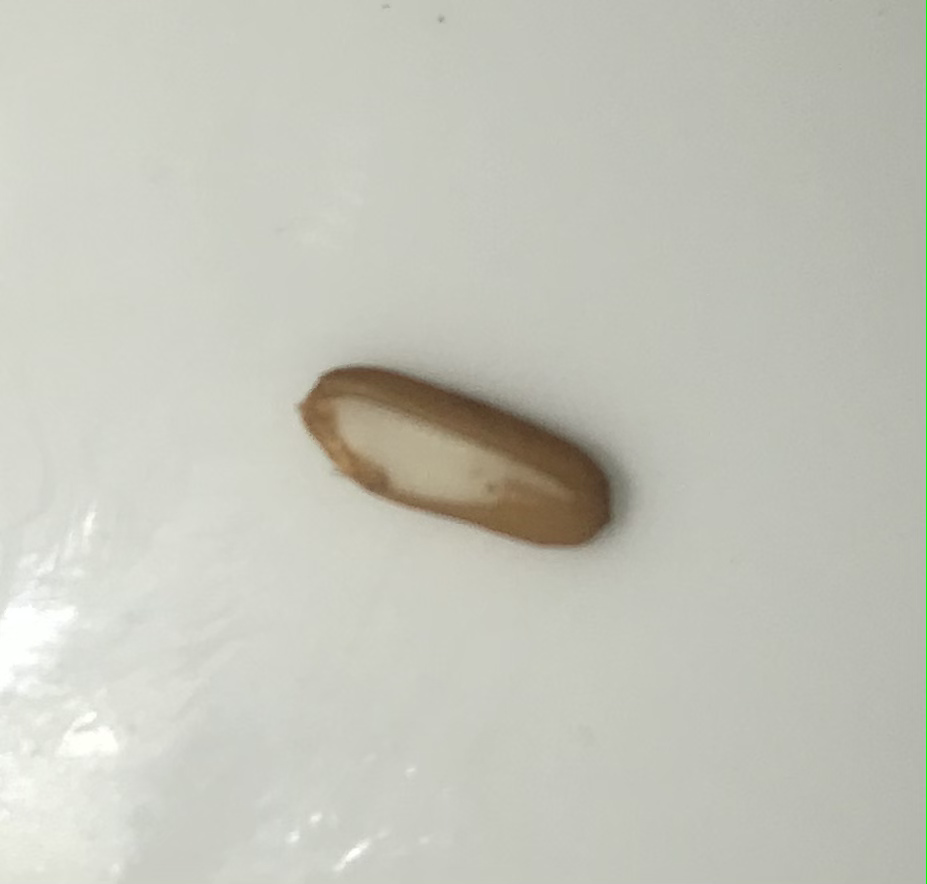Gao Lut Dien Bien: (282, 339, 621, 557)
